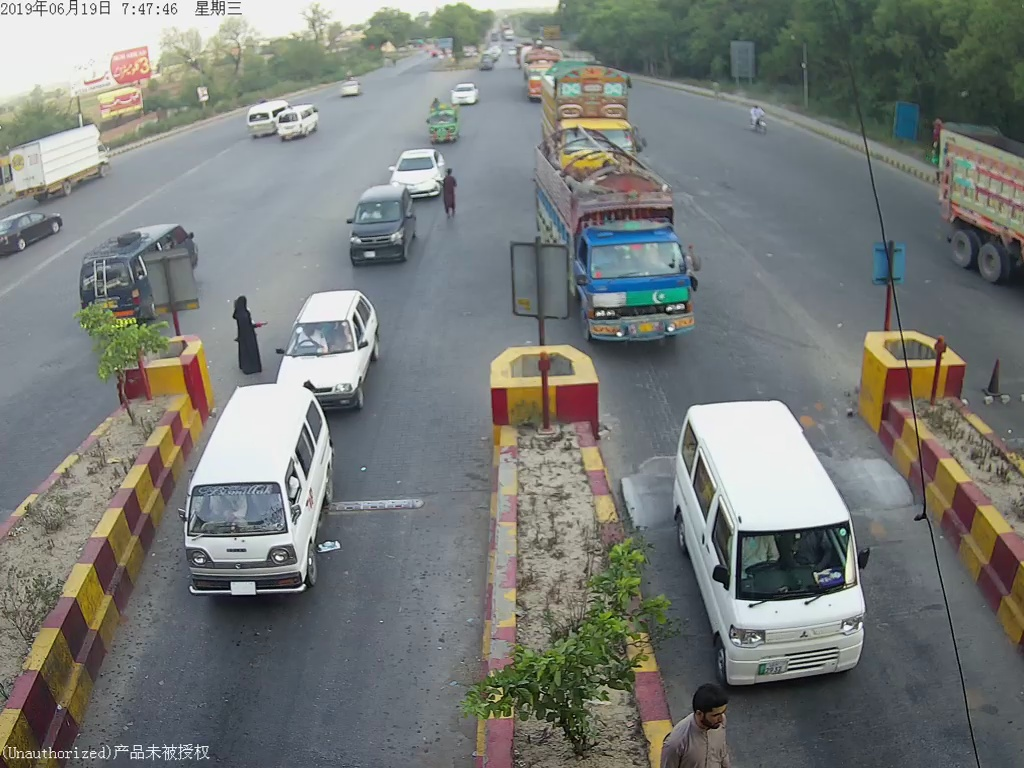Cat-1: (674, 397, 883, 693), (186, 380, 337, 603), (276, 288, 382, 410), (344, 183, 421, 265), (383, 138, 445, 202)
Cat-2: (532, 131, 705, 341)
